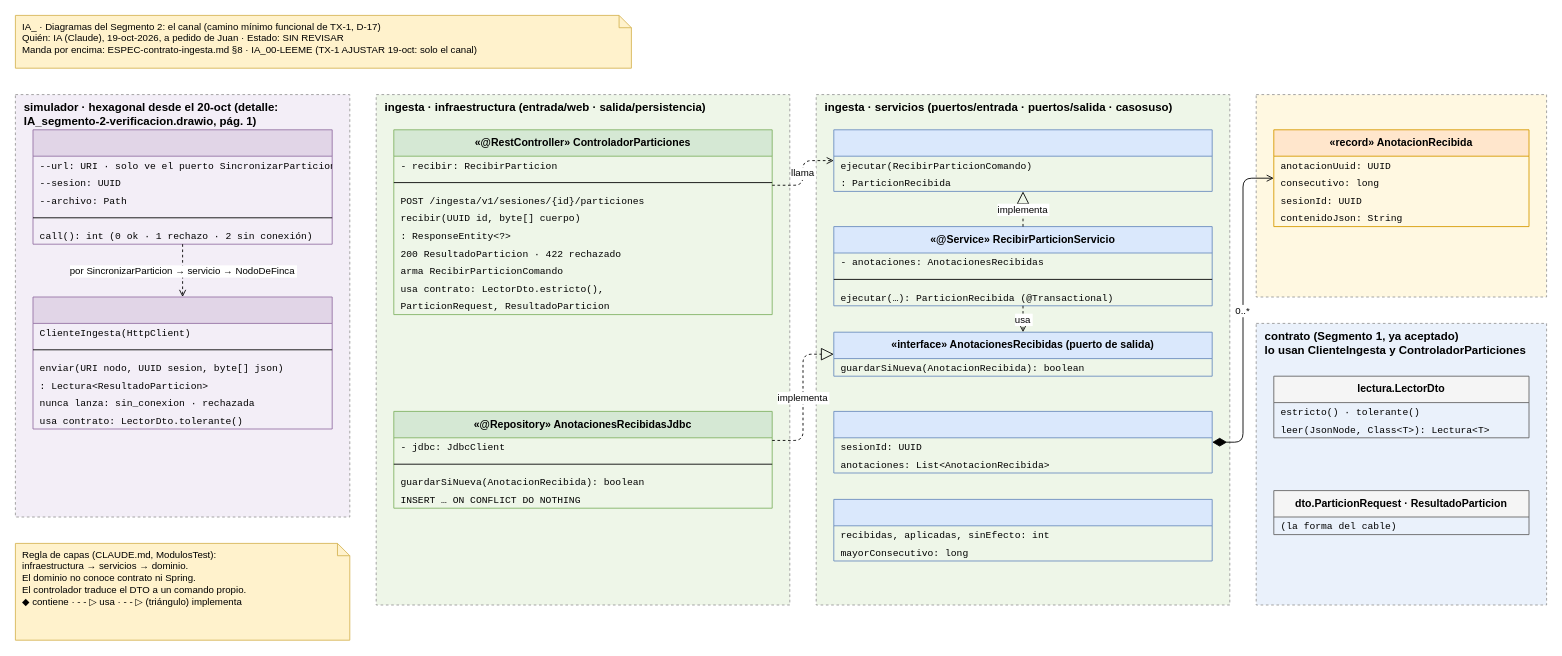
Image size: 1562x656. Some labels were removed from this diagram. The shapes that lost their labels are listed below. From the top down, each one's box as (x1, y1, x2, y2) in pixels, then its label:
(833, 129, 1212, 191): «interface» RecibirParticion (puerto de entrada)
(32, 129, 332, 244): «picocli» entrada/cli · Sincronizar
(1255, 94, 1547, 297): ingesta · dominio (Java puro)
(32, 296, 332, 429): salida/http · ClienteIngesta implements NodoDeFinca
(833, 411, 1212, 473): «record» RecibirParticionComando
(833, 499, 1212, 561): «record» ParticionRecibida
